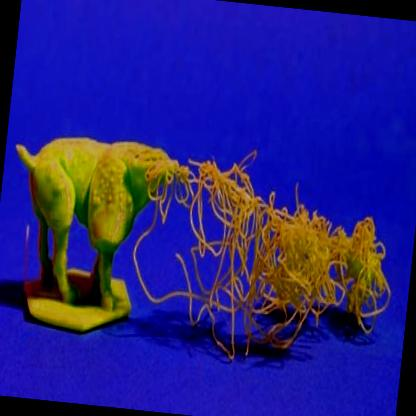fail: (122, 134, 406, 381)
